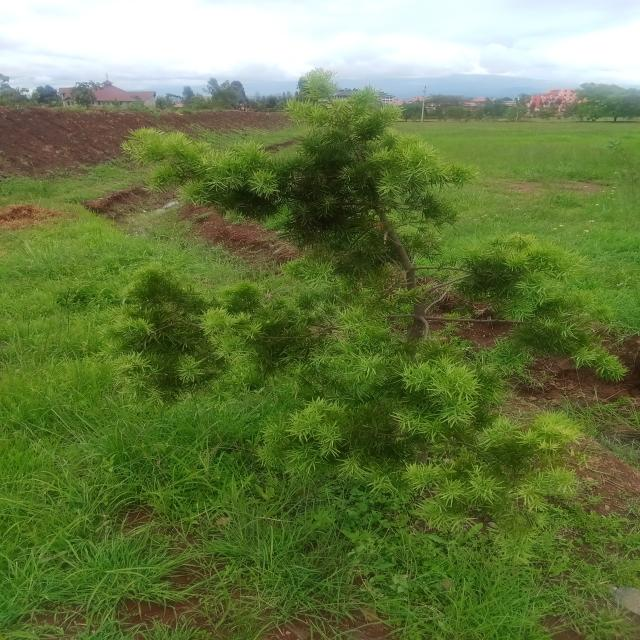Podocarpus falcatus: (128, 70, 629, 530)
